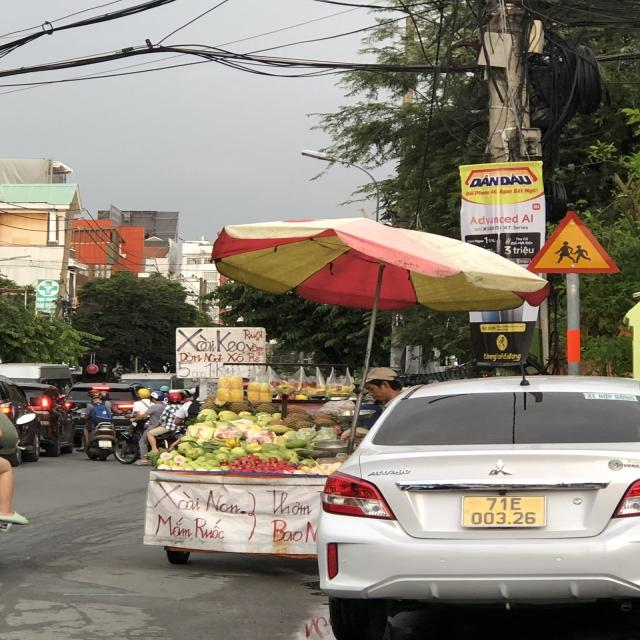Bien bao tre em: (522, 210, 624, 278)
